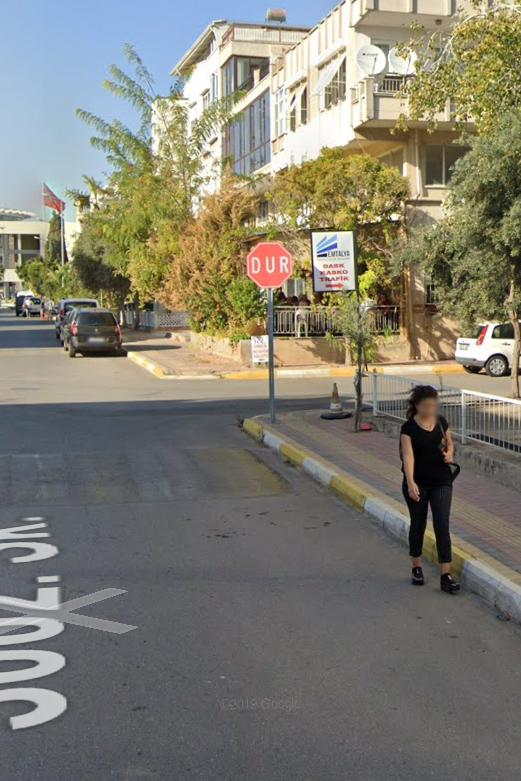stop: (248, 242, 292, 286)
